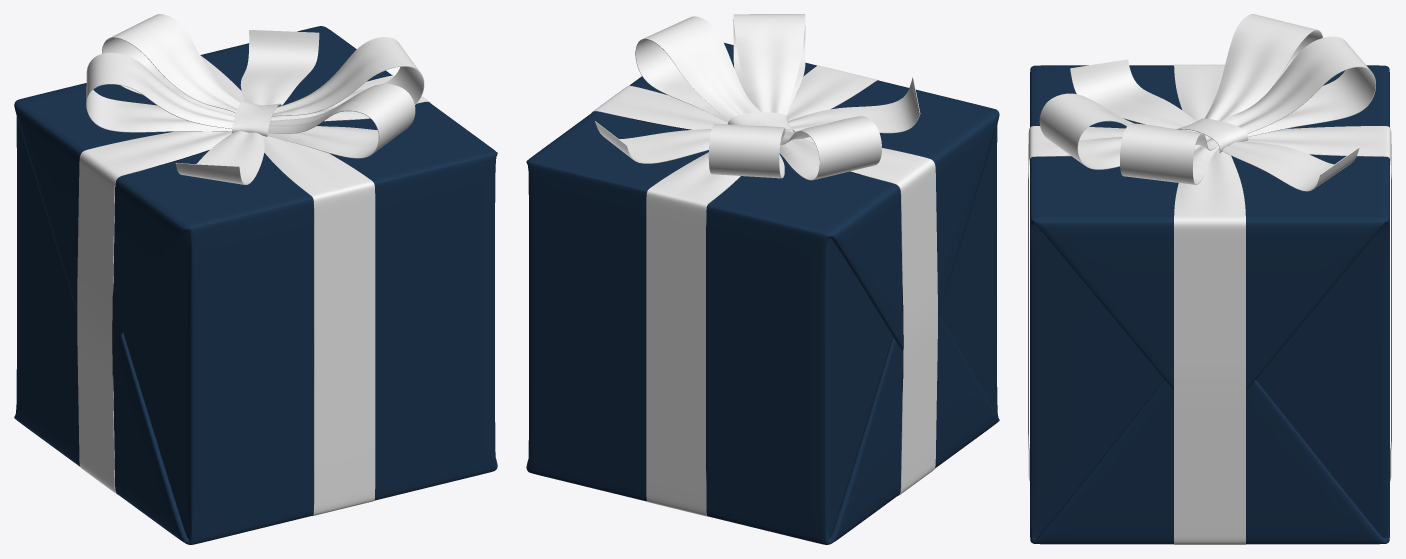
File: present_03.gltf
3 views of the same model, side by side, from view 1: azimuth 30°, elevation 25°; view 2: azimuth 150°, elevation 25°; view 3: azimuth 270°, elevation 25° (orthographic). The views are drawn at different scales.
Visible parts, largest first — view 1: present_03; view 2: present_03; view 3: present_03.
Part boxes in pixels (left/top/right/bottom): present_03: left=14, top=14, right=497, bottom=544; present_03: left=526, top=14, right=999, bottom=544; present_03: left=1028, top=14, right=1391, bottom=544.
Bounding box in the file's own units: 0.3433 × 0.3905 × 0.3272.
1 material, 1 textured.
